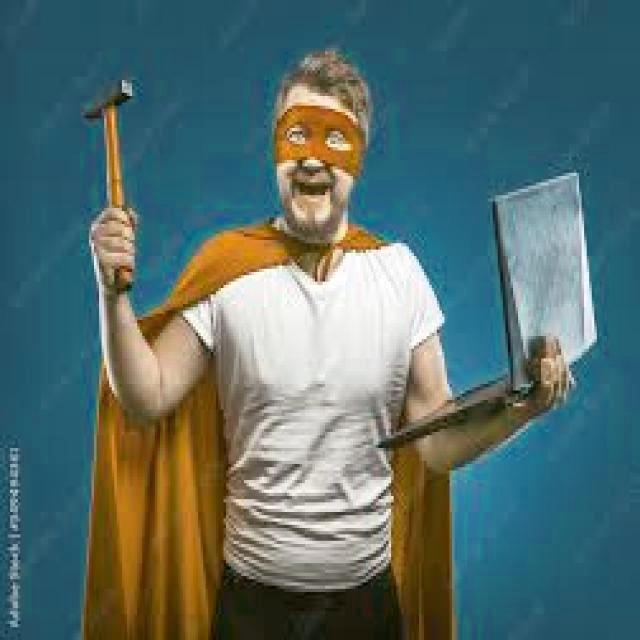hammer: (76, 65, 144, 308)
